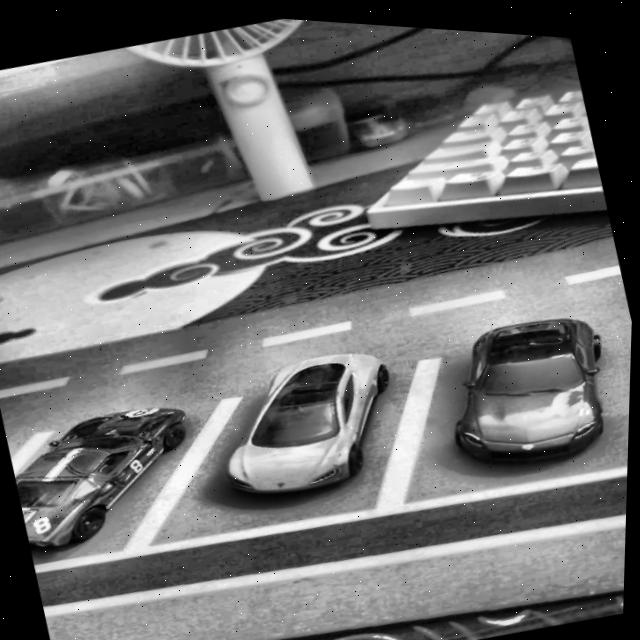car: (202, 329, 416, 511), (431, 292, 630, 478), (5, 388, 213, 561)
